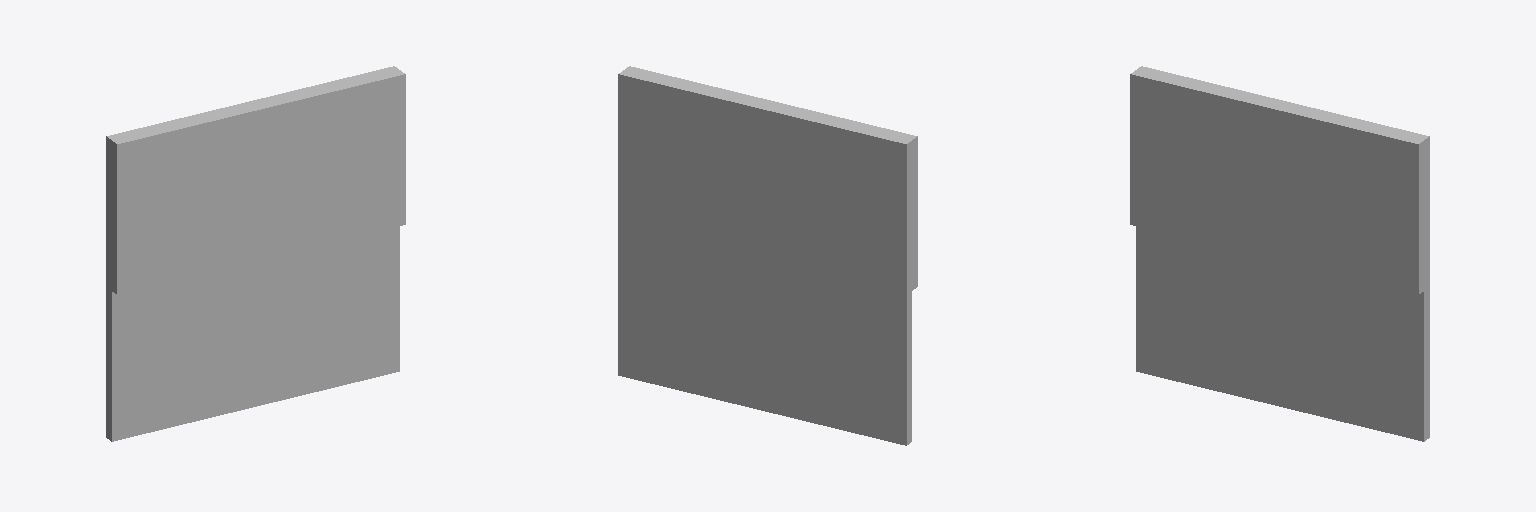
The model's file is simple-topo-2.obj.
The picture shows the model from 3 angles: view 1: azimuth 30°, elevation 25°; view 2: azimuth 150°, elevation 25°; view 3: azimuth 330°, elevation 25°; orthographic projection.
Bounding box in the file's own units: 6 × 6 × 0.4.